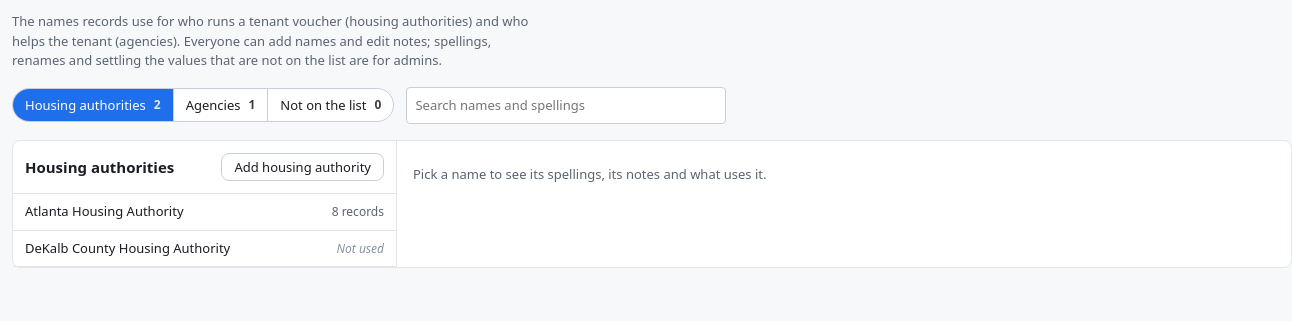
Test: OrgListSection - the lists › a segment switches the list on screen and is kept in the URL
The image size is (1292, 321).
Click the button "Agencies 1" at [221, 105], box x1=174 y1=89 x2=268 y2=121
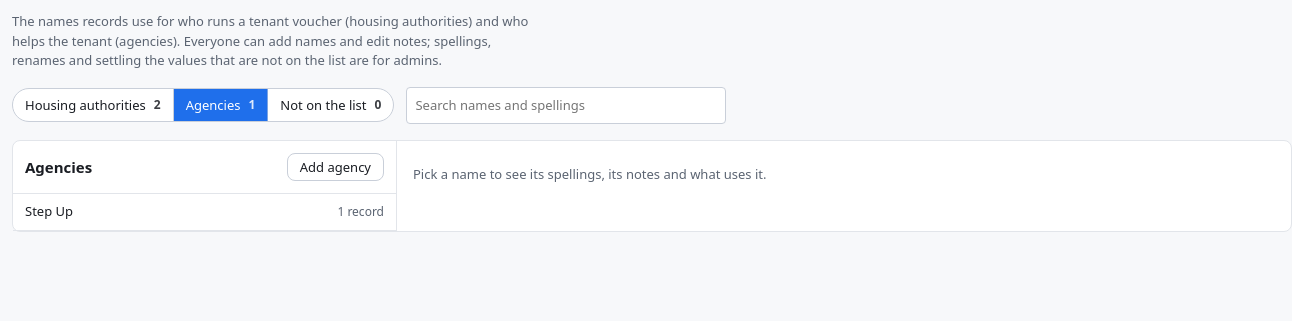
Click the button "Not on the list 0" at [331, 105], box x1=268 y1=89 x2=393 y2=121
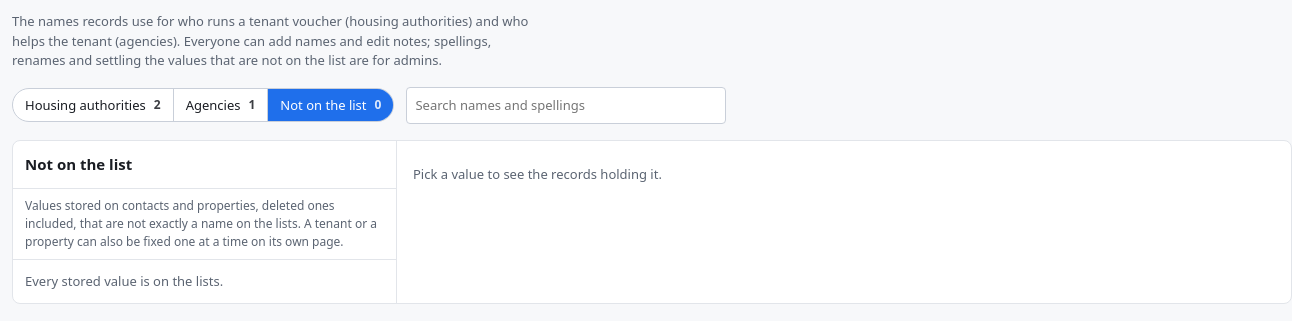
Now the text "Every stored value is on the lists." is shown, box x1=25 y1=272 x2=223 y2=290
